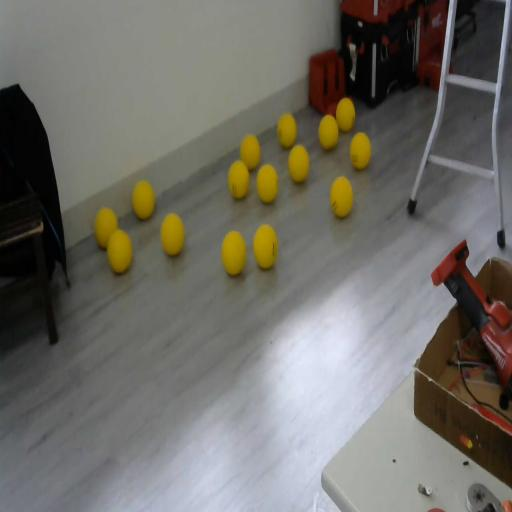FUEL: (220, 228, 247, 278), (106, 228, 133, 274), (252, 223, 278, 270), (159, 211, 185, 257), (227, 159, 250, 200), (256, 162, 278, 204), (330, 176, 352, 218), (132, 180, 155, 220), (288, 144, 310, 184), (349, 131, 371, 170), (318, 113, 338, 151), (240, 134, 261, 170), (336, 96, 356, 132), (277, 113, 296, 148)
